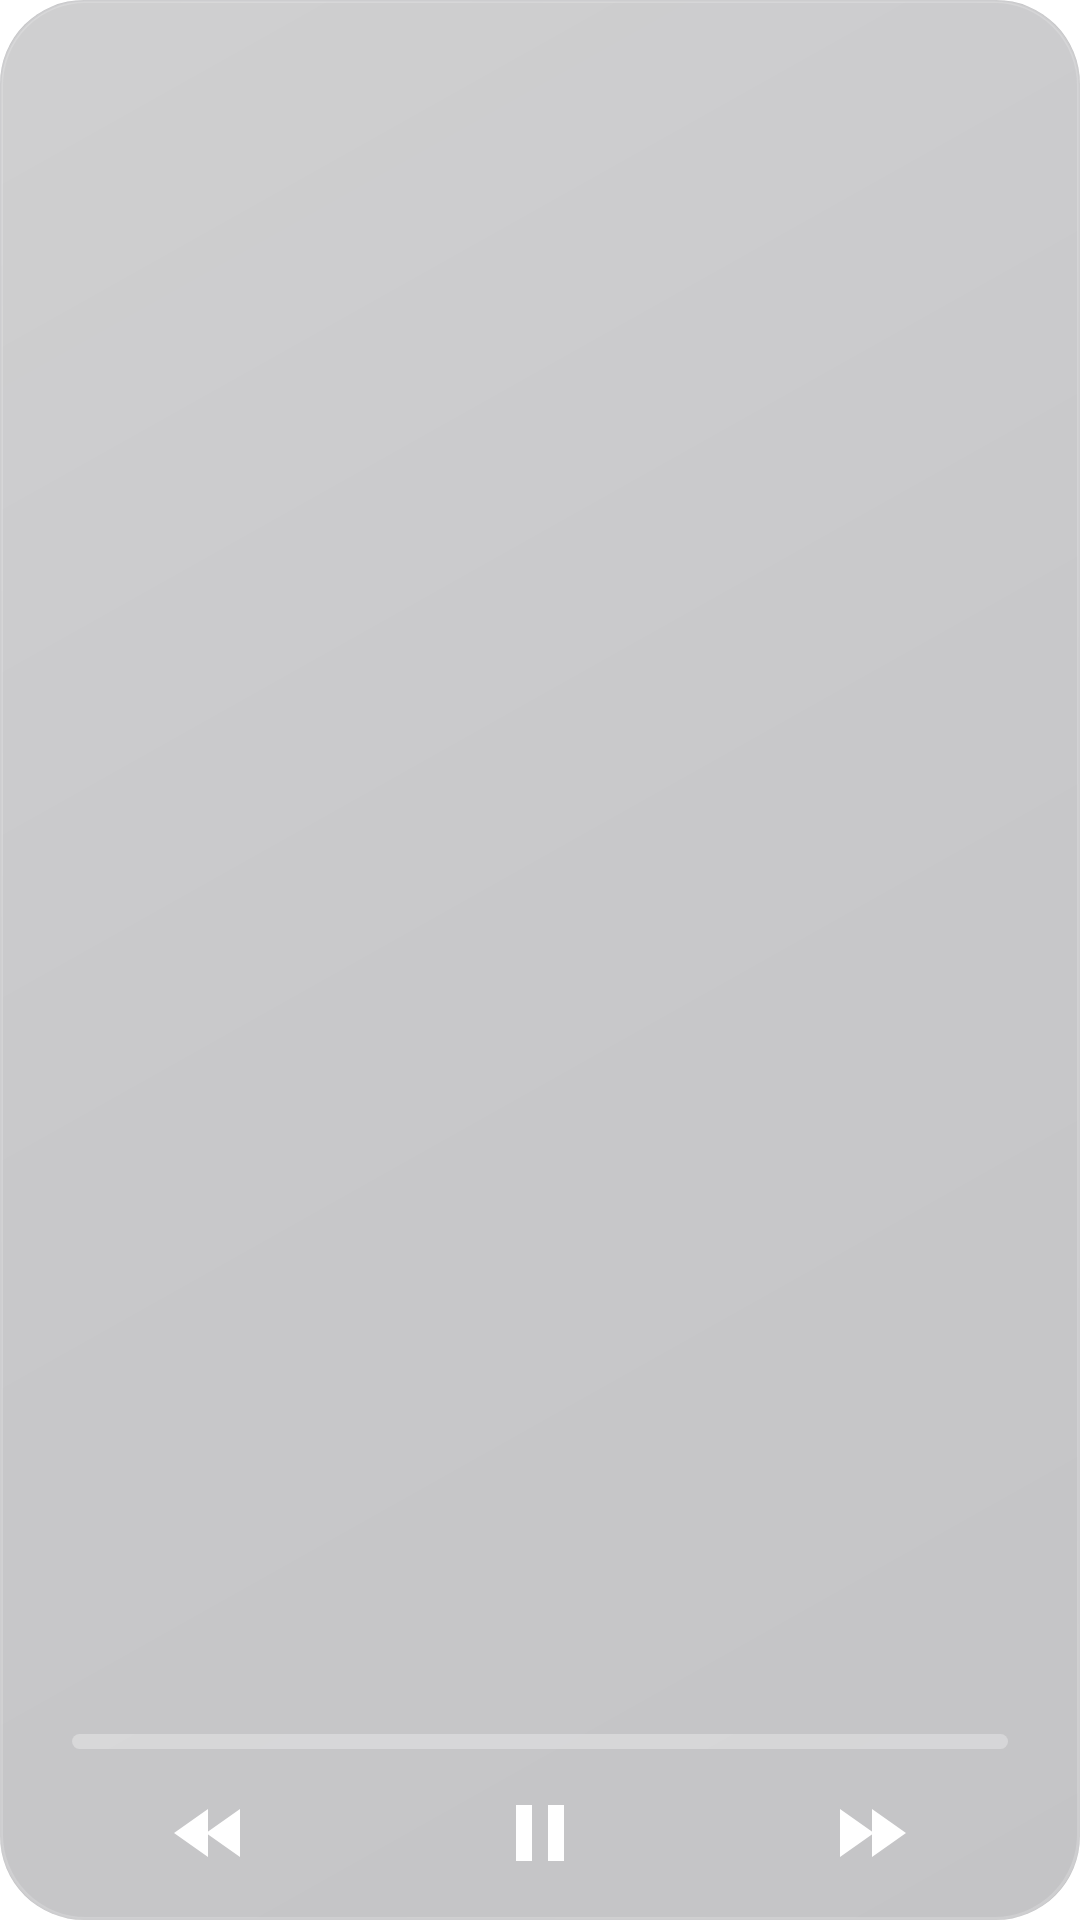

Where icons sit on this 1080×1920 app screen, as bbox=(x1, y1, x2, y2):
Berikutnya: bbox=(840, 1809, 905, 1857)
Putar atau jeda: bbox=(516, 1805, 564, 1861)
Sebelumnya: bbox=(175, 1809, 240, 1857)
